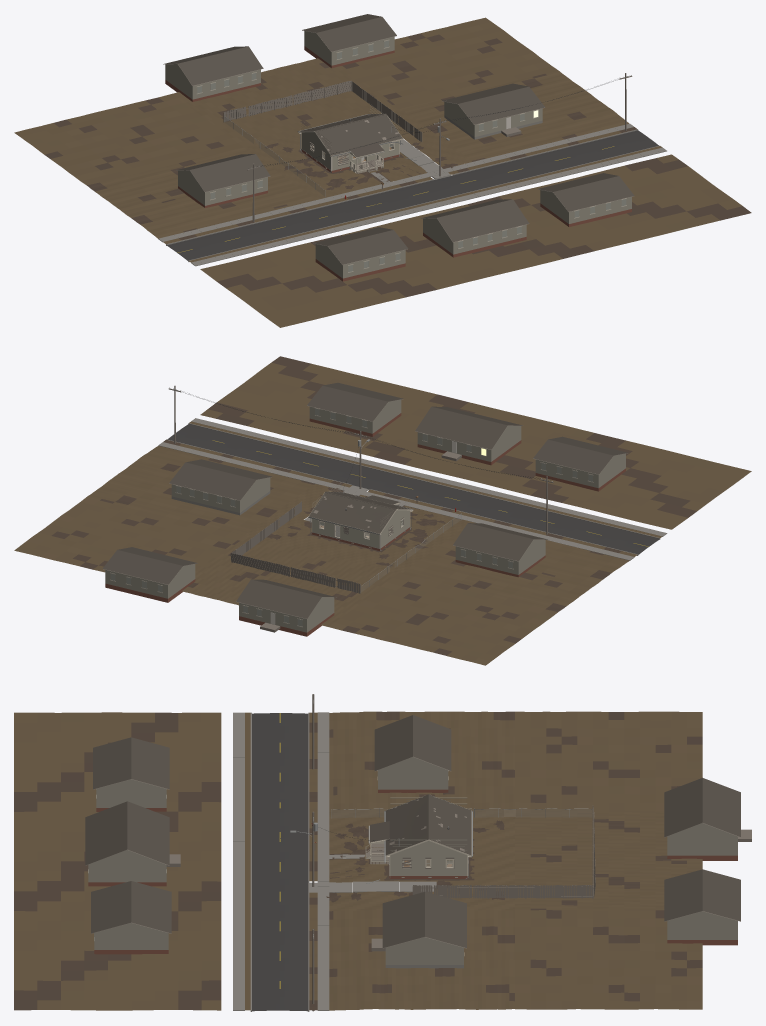
Rendered from house_shell.glb.
3 renders of one model, top to bottom at view 1: azimuth 30°, elevation 25°; view 2: azimuth 150°, elevation 25°; view 3: azimuth 270°, elevation 25°, orthographic. The views are drawn at different scales.
Parts seen in each view (by area): view 1: SITE_ground, SITE_street, SITE_concrete, NBR_nbr_s, NBR_nbr_e, NBR_nbr_nw, NBR_nbr_sw, NBR_nbr_se, NBR_nbr_ne, NBR_nbr_w, ROOF_main, SITE_fence_wood (+4 smaller); view 2: SITE_ground, SITE_street, SITE_concrete, NBR_nbr_s, NBR_nbr_nw, NBR_nbr_e, NBR_nbr_ne, NBR_nbr_se, NBR_nbr_sw, NBR_nbr_w, ROOF_main, SITE_fence_wood (+4 smaller); view 3: SITE_ground, SITE_street, SITE_concrete, NBR_nbr_s, NBR_nbr_e, NBR_nbr_nw, NBR_nbr_se, NBR_nbr_w, NBR_nbr_ne, NBR_nbr_sw, ROOF_main, SITE_fence_wood (+5 smaller).
Boxes of the visible parts, bbox=[...] form: SITE_ground: bbox=[14, 17, 751, 327]; SITE_street: bbox=[167, 130, 658, 260]; SITE_concrete: bbox=[158, 123, 666, 266]; NBR_nbr_s: bbox=[421, 199, 529, 257]; NBR_nbr_e: bbox=[442, 83, 545, 139]; NBR_nbr_nw: bbox=[163, 46, 263, 101]; NBR_nbr_sw: bbox=[313, 227, 408, 281]; NBR_nbr_se: bbox=[538, 173, 634, 226]; NBR_nbr_ne: bbox=[302, 14, 396, 68]; NBR_nbr_w: bbox=[176, 154, 270, 207]; ROOF_main: bbox=[298, 113, 402, 155]; SITE_fence_wood: bbox=[223, 80, 422, 141]; SITE_ground: bbox=[14, 356, 751, 665]; SITE_street: bbox=[167, 424, 659, 554]; SITE_concrete: bbox=[158, 418, 667, 560]; NBR_nbr_s: bbox=[415, 406, 522, 465]; NBR_nbr_nw: bbox=[236, 579, 336, 636]; NBR_nbr_e: bbox=[169, 459, 271, 515]; NBR_nbr_ne: bbox=[102, 547, 197, 602]; NBR_nbr_se: bbox=[307, 382, 403, 436]; NBR_nbr_sw: bbox=[533, 436, 628, 491]; NBR_nbr_w: bbox=[453, 523, 547, 577]; ROOF_main: bbox=[309, 491, 412, 533]; SITE_fence_wood: bbox=[230, 501, 360, 593]; SITE_ground: bbox=[14, 711, 702, 1010]; SITE_street: bbox=[252, 713, 308, 1011]; SITE_concrete: bbox=[233, 712, 436, 1010]; NBR_nbr_s: bbox=[85, 801, 180, 886]; NBR_nbr_e: bbox=[371, 892, 466, 968]; NBR_nbr_nw: bbox=[664, 778, 751, 860]; NBR_nbr_se: bbox=[91, 881, 171, 954]; NBR_nbr_w: bbox=[374, 715, 451, 792]; NBR_nbr_ne: bbox=[664, 869, 740, 945]; NBR_nbr_sw: bbox=[93, 737, 169, 811]; ROOF_main: bbox=[385, 794, 471, 855]; SITE_fence_wood: bbox=[412, 805, 595, 898].
Size of the model in its own units: 90 by 11.5 by 94.3.
